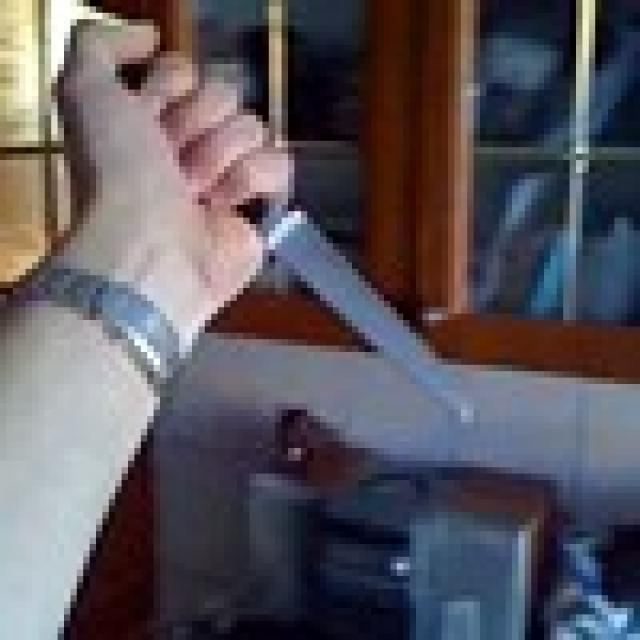Knife: (128, 51, 474, 422)
